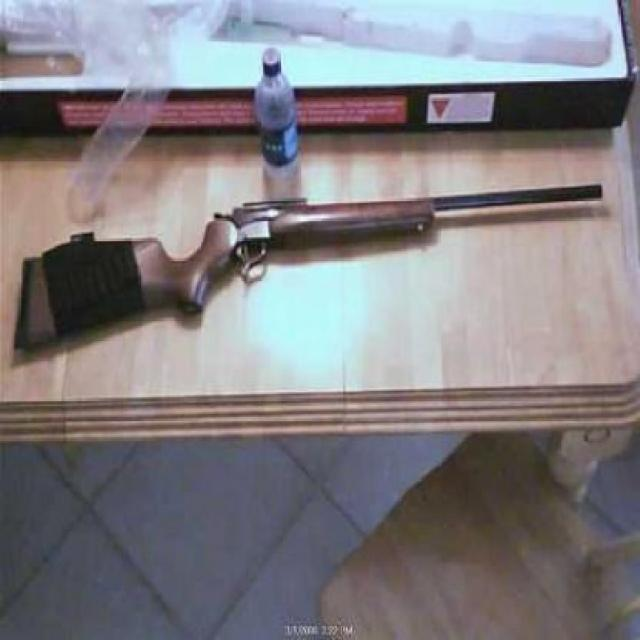weapon: (14, 181, 603, 352)
